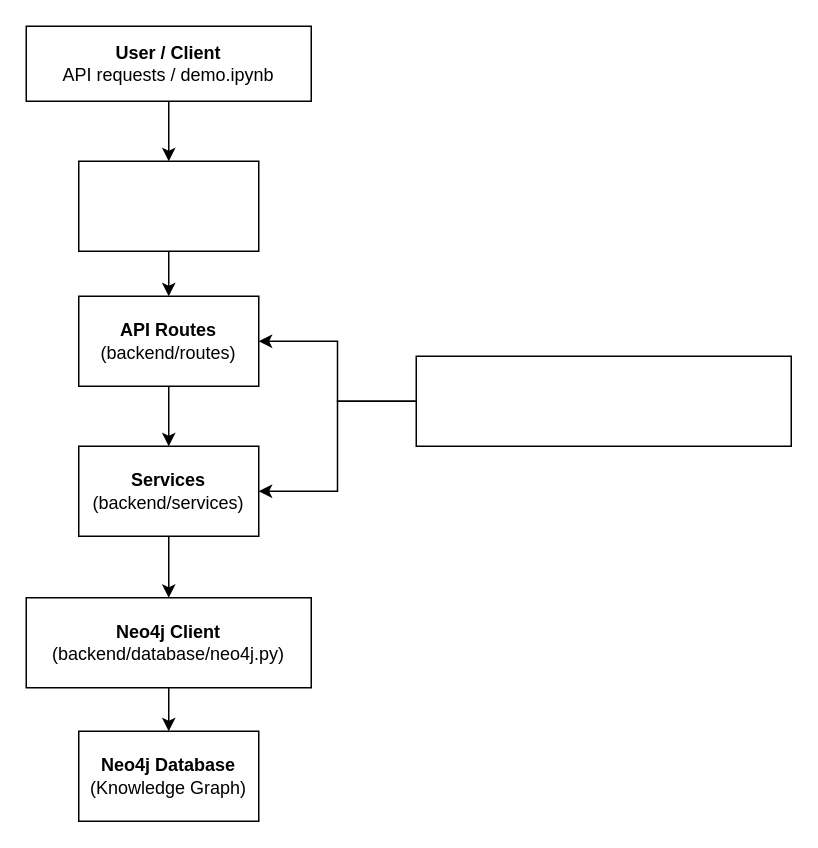
Image size: 818x848. Some labels were removed from this diagram. Each missing label, with the centre of its shape:
"FastAPI Application (main.py)" belongs at point (168, 205).
"Tests & CI (Pytest, Coverage, GitHub Actions)" belongs at point (603, 400).
